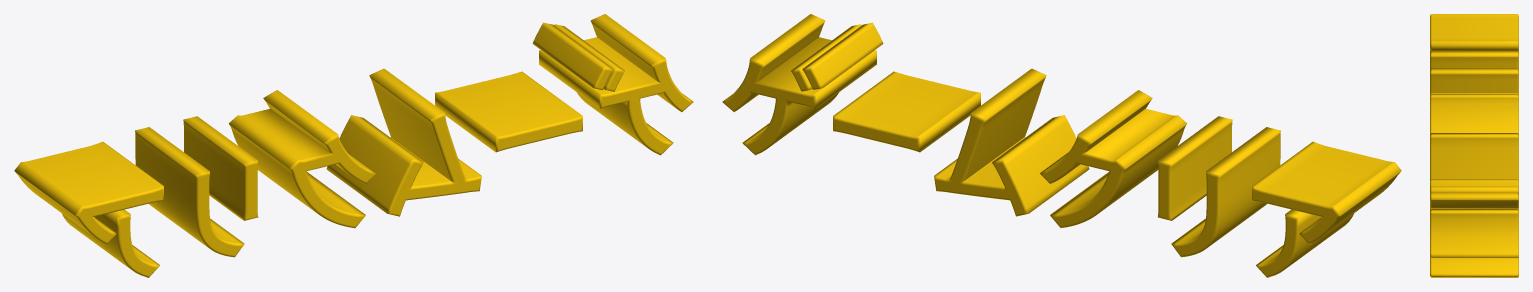
Rendered from GameClear.obj.
The picture shows the model from 3 angles, left to right: view 1: azimuth 30°, elevation 25°; view 2: azimuth 150°, elevation 25°; view 3: azimuth 270°, elevation 25°; orthographic projection. The views are drawn at different scales.
Parts seen in each view (by area): view 1: テキスト; view 2: テキスト; view 3: テキスト.
Part boxes in pixels (x1,y1,x2,y2): テキスト: (14, 14, 693, 277); テキスト: (722, 14, 1401, 277); テキスト: (1430, 14, 1518, 277).
Size of the model in its own units: 59.41 by 9.38 by 10.4.
